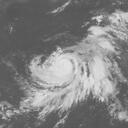cyclone: (29, 48, 105, 103)
